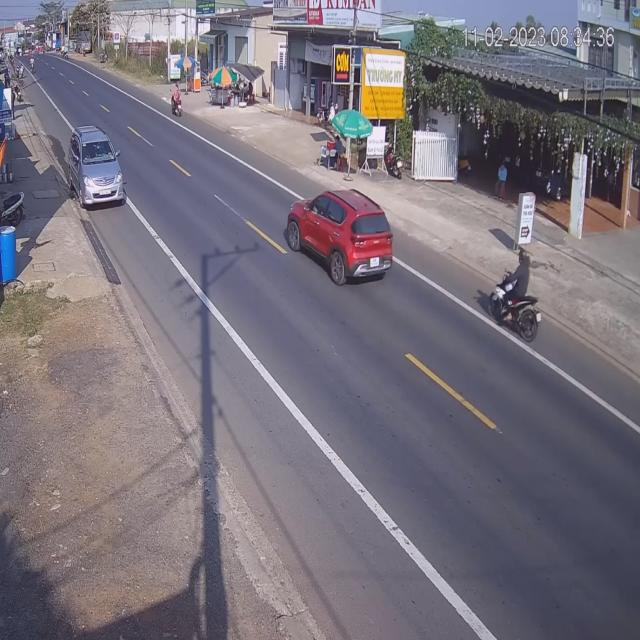car: (287, 188, 396, 286), (67, 126, 126, 210)
motorbike: (492, 249, 545, 343), (170, 84, 183, 119)
